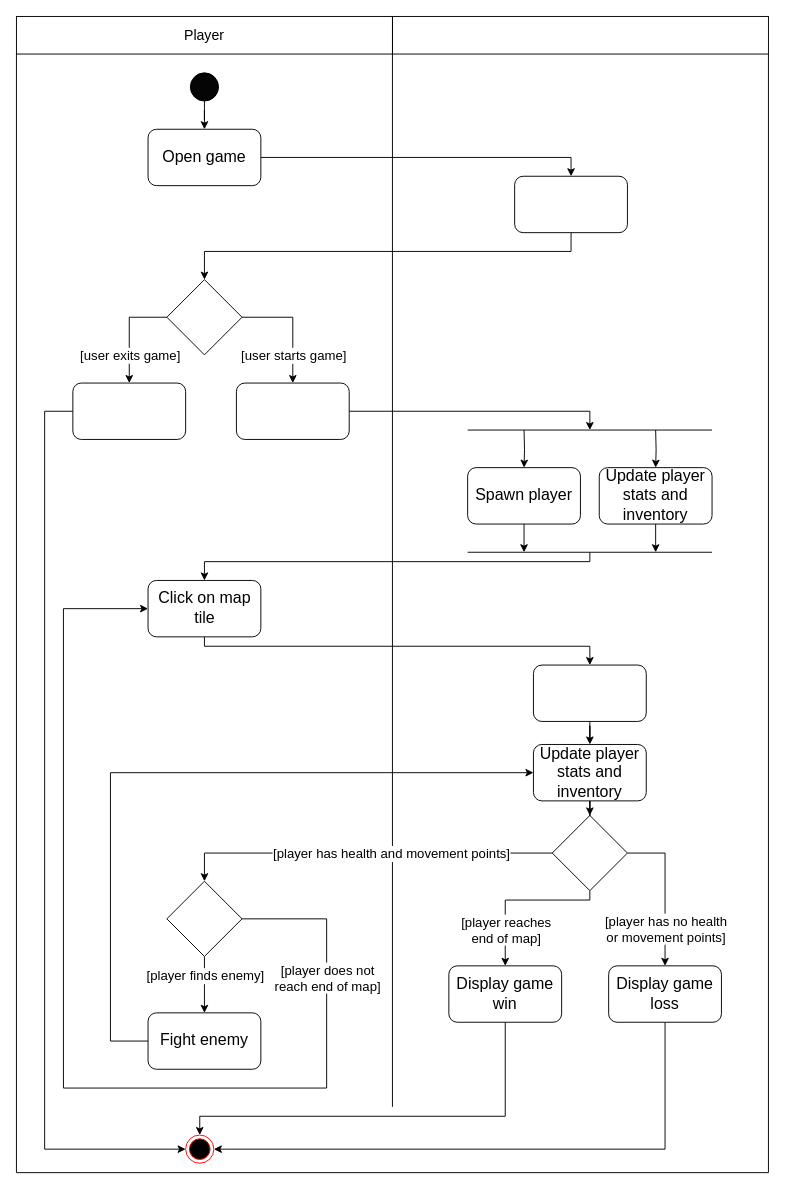
This 786x1190 diagram has some shape labels left out. The centre of each missing label's shape, as x and y in pixels:
"Click exit game" goes at point 129,410.
"Click start game" goes at point 292,410.
"Display main menu" goes at point 570,204.
"Game" goes at point 580,35.
"Move player" goes at point 589,692.
